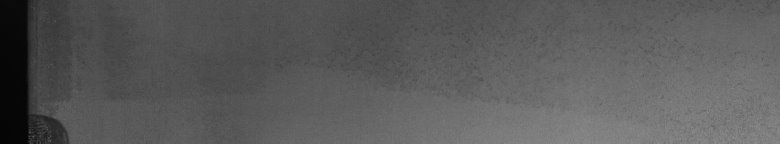hb: (36, 100, 73, 136)
